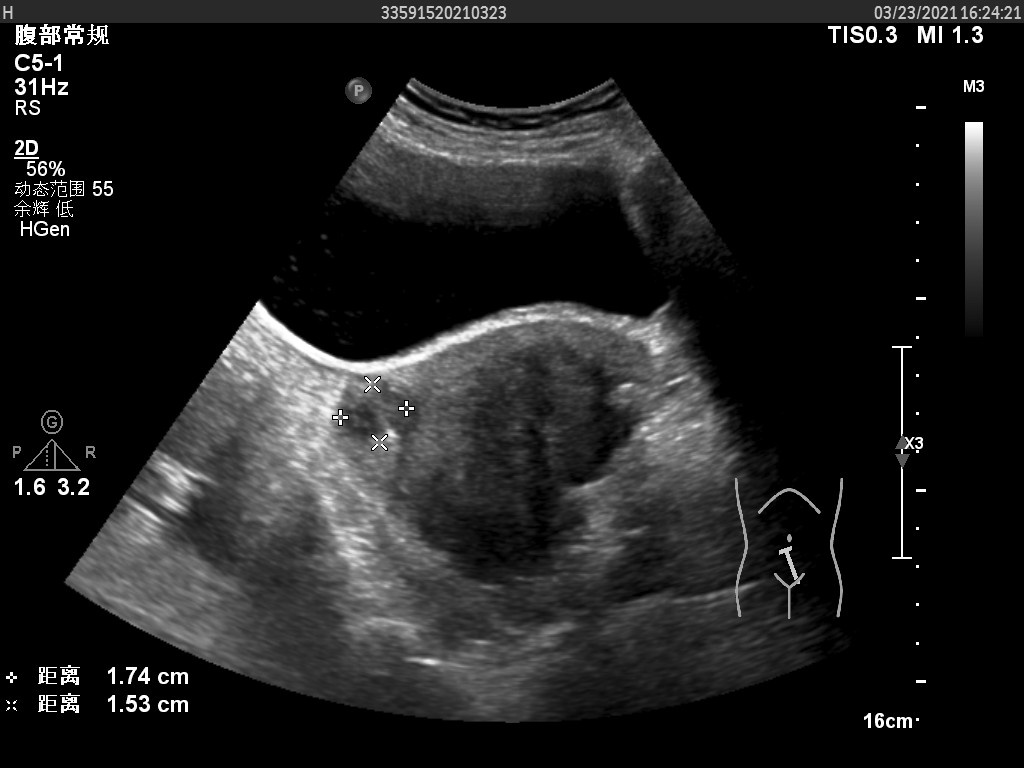肌瘤: (350, 386, 409, 434)
